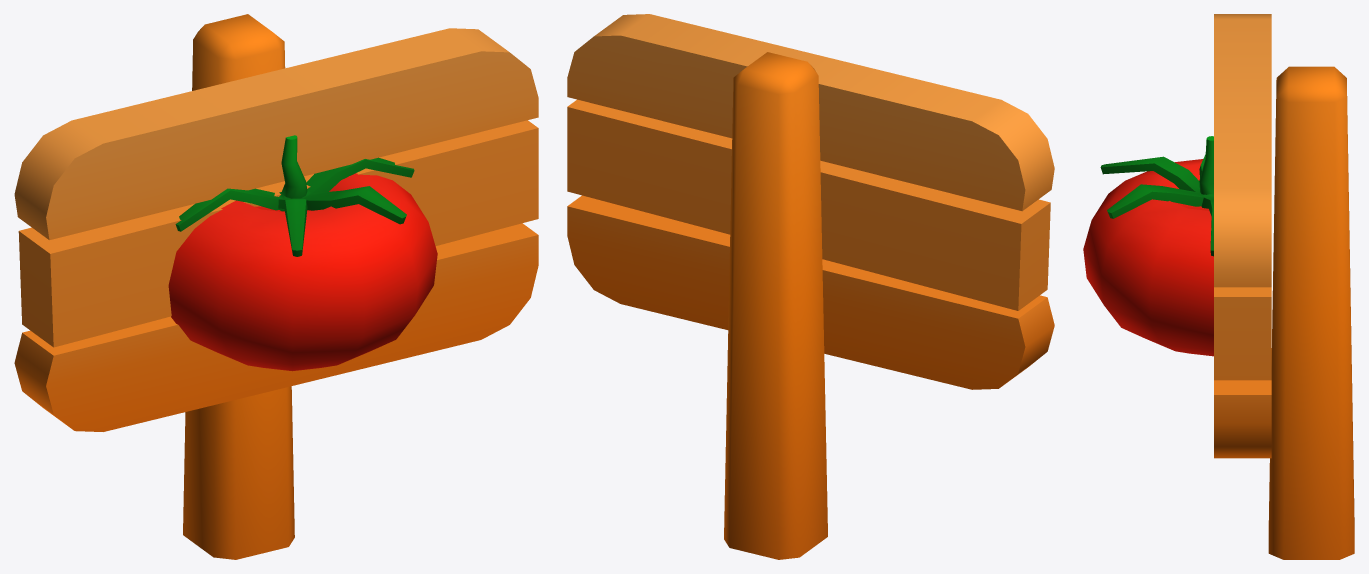
The model's file is Farm_Crop_Sign_Tomato_01.fbx.
3 renders of one model, left to right at view 1: azimuth 30°, elevation 25°; view 2: azimuth 150°, elevation 25°; view 3: azimuth 270°, elevation 25°, orthographic. The views are drawn at different scales.
Visible parts, largest first — view 1: Farm_Crop_Sign_Tomato_01; view 2: Farm_Crop_Sign_Tomato_01; view 3: Farm_Crop_Sign_Tomato_01.
Part boxes in pixels (x1,y1,x2,y2): Farm_Crop_Sign_Tomato_01: (14,14,538,559); Farm_Crop_Sign_Tomato_01: (567,14,1054,559); Farm_Crop_Sign_Tomato_01: (1083,14,1354,559).
Size of the model in its own units: 90.11 by 88.8 by 46.95.
